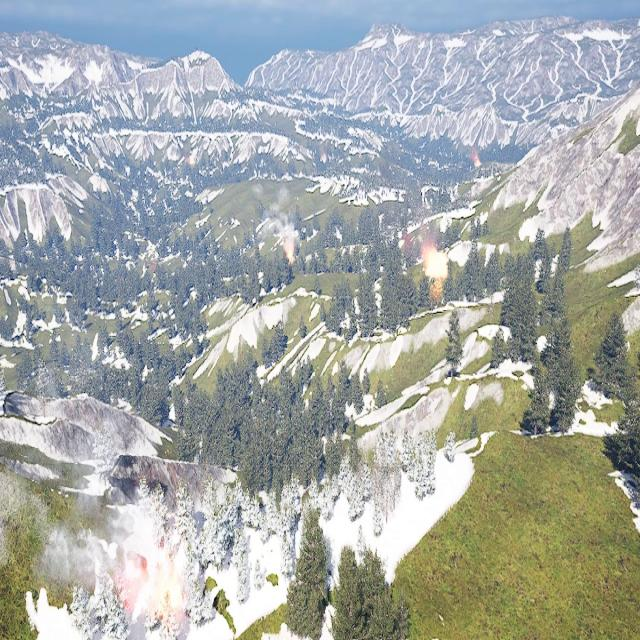fire: (133, 543, 183, 616), (423, 249, 447, 281), (285, 247, 294, 264), (471, 155, 481, 170), (187, 155, 194, 168), (321, 151, 327, 163)
smoke: (0, 465, 172, 640), (267, 186, 298, 250), (404, 210, 441, 249)
